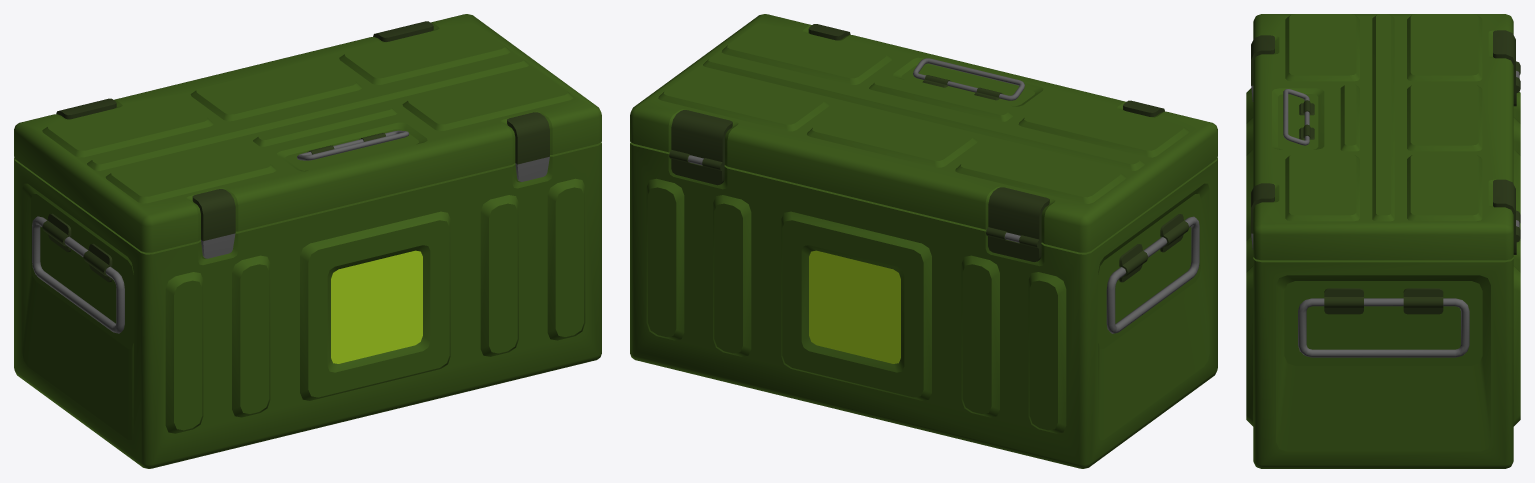
File: municion.fbx
3 renders of one model, left to right at view 1: azimuth 30°, elevation 25°; view 2: azimuth 150°, elevation 25°; view 3: azimuth 270°, elevation 25°, orthographic. The views are drawn at different scales.
Visible parts, largest first — view 1: caja_municion_01, caja_municion_01_tapa, caja_municion_01_p1; view 2: caja_municion_01, caja_municion_01_tapa, caja_municion_01_p1; view 3: caja_municion_01_tapa, caja_municion_01, caja_municion_01_p2.
Part boxes in pixels (x1=…): caja_municion_01: x1=14, y1=142, x2=601, y2=468; caja_municion_01_tapa: x1=14, y1=14, x2=601, y2=258; caja_municion_01_p1: x1=32, y1=216, x2=124, y2=333; caja_municion_01: x1=630, y1=142, x2=1217, y2=468; caja_municion_01_tapa: x1=630, y1=14, x2=1217, y2=252; caja_municion_01_p1: x1=1106, y1=216, x2=1199, y2=333; caja_municion_01_tapa: x1=1251, y1=14, x2=1520, y2=260; caja_municion_01: x1=1246, y1=88, x2=1520, y2=468; caja_municion_01_p2: x1=1298, y1=298, x2=1469, y2=357.
Bounding box in the file's own units: 66.35 × 35.31 × 34.76.
